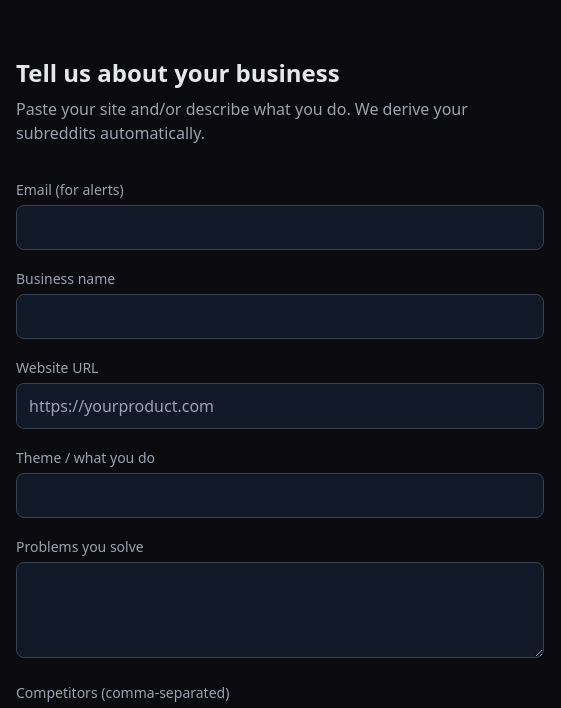
Test case: Onboarding › displays an error message when onboard fails
Type "u@example.com" into the field labelled "Email (for alerts)" at (280, 228), box x1=16 y1=205 x2=544 y2=250
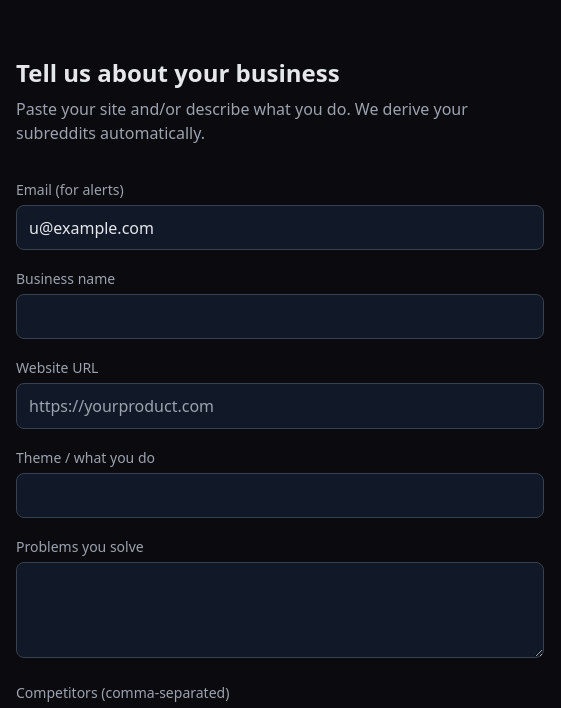
Type "Acme" into the field labelled "Business name" at (280, 317), box x1=16 y1=294 x2=544 y2=339
(page scrolled)
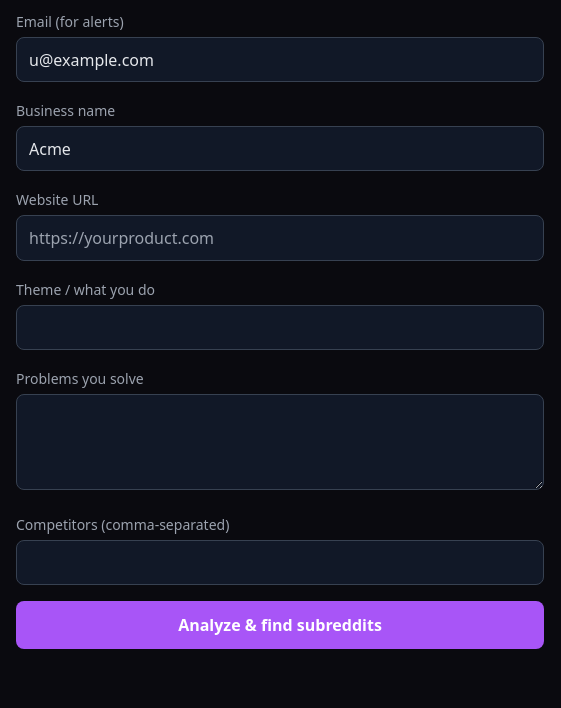
Click the button "Analyze & find subreddits" at (280, 625), box x1=16 y1=601 x2=544 y2=649
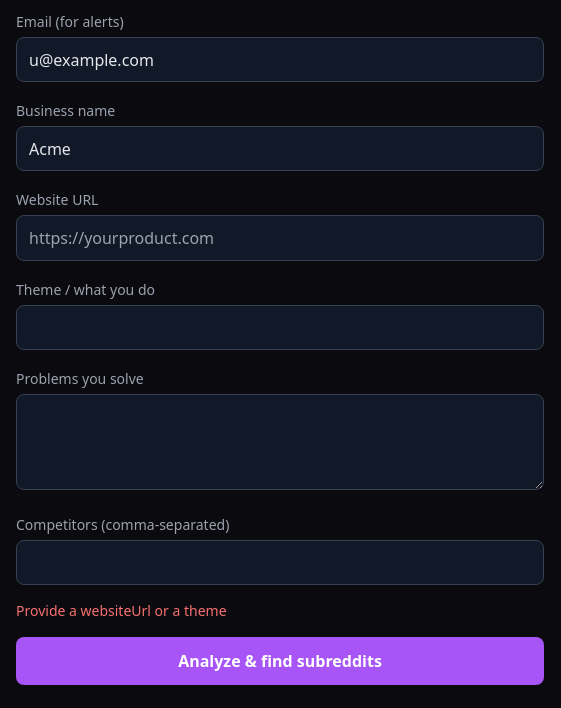
Expected: the text "Provide a websiteUrl or a theme" is shown, x1=16 y1=601 x2=226 y2=620
